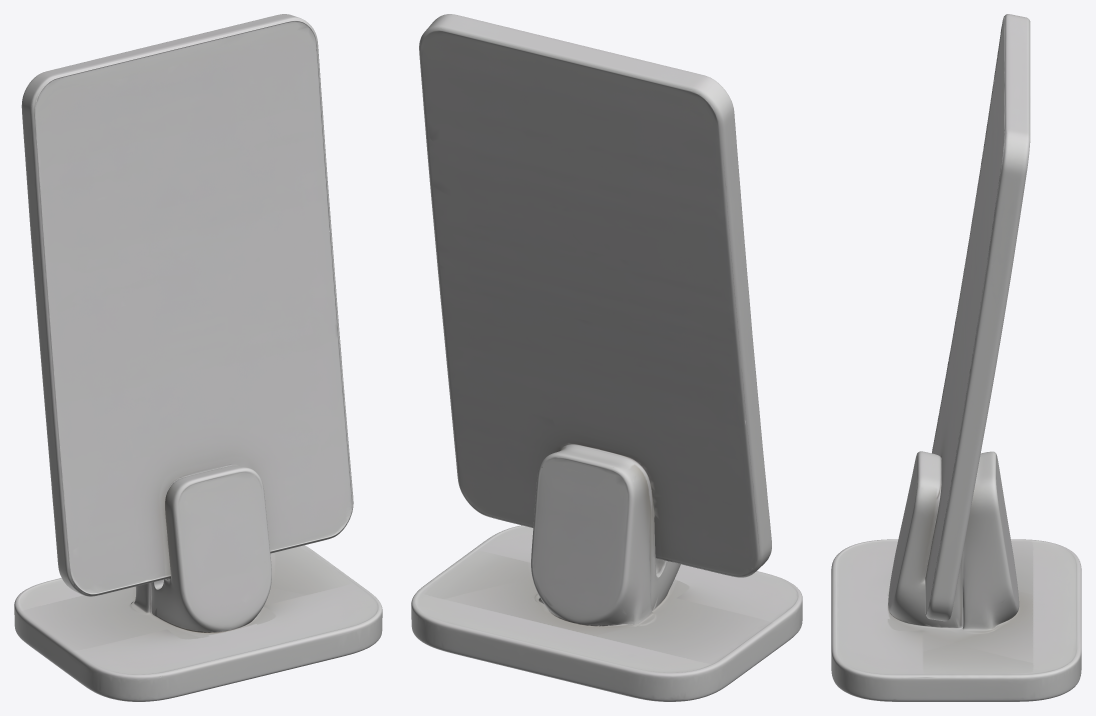
File: 桌面立牌.glb
3 views of the same model, side by side, from view 1: azimuth 30°, elevation 25°; view 2: azimuth 150°, elevation 25°; view 3: azimuth 270°, elevation 25° (orthographic). The views are drawn at different scales.
Parts seen in each view (by area): view 1: node_0; view 2: node_0; view 3: node_0.
Boxes of the visible parts, x1,y1,x2,y2 form: node_0: (14, 14, 382, 701); node_0: (411, 14, 802, 701); node_0: (831, 14, 1081, 701).
Size of the model in its own units: 0.5513 by 1.04 by 0.4202.
Materials: 1 (1 with a texture image).
